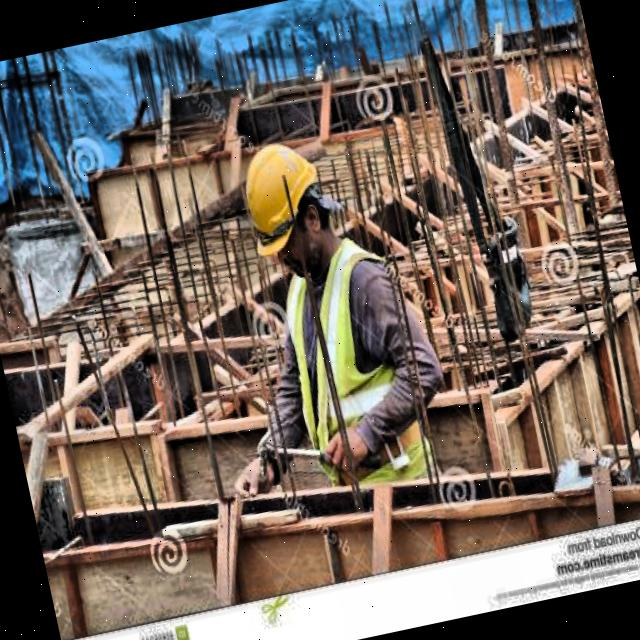helmet: (230, 125, 346, 284)
